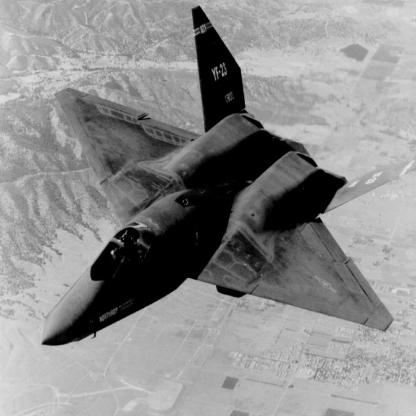YF23: (42, 6, 416, 347)
